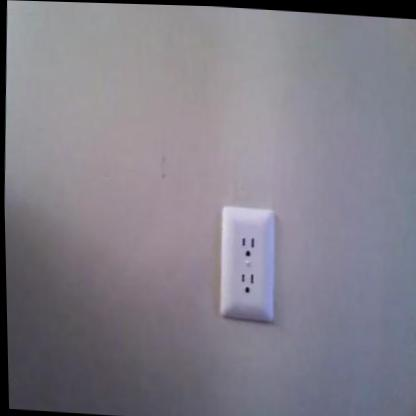OUTLET: (215, 205, 279, 325)
